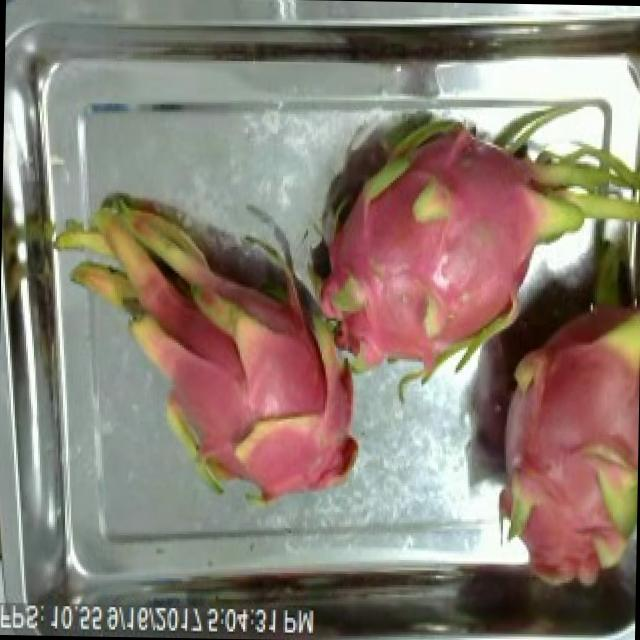Fruit: (618, 214, 640, 333)
